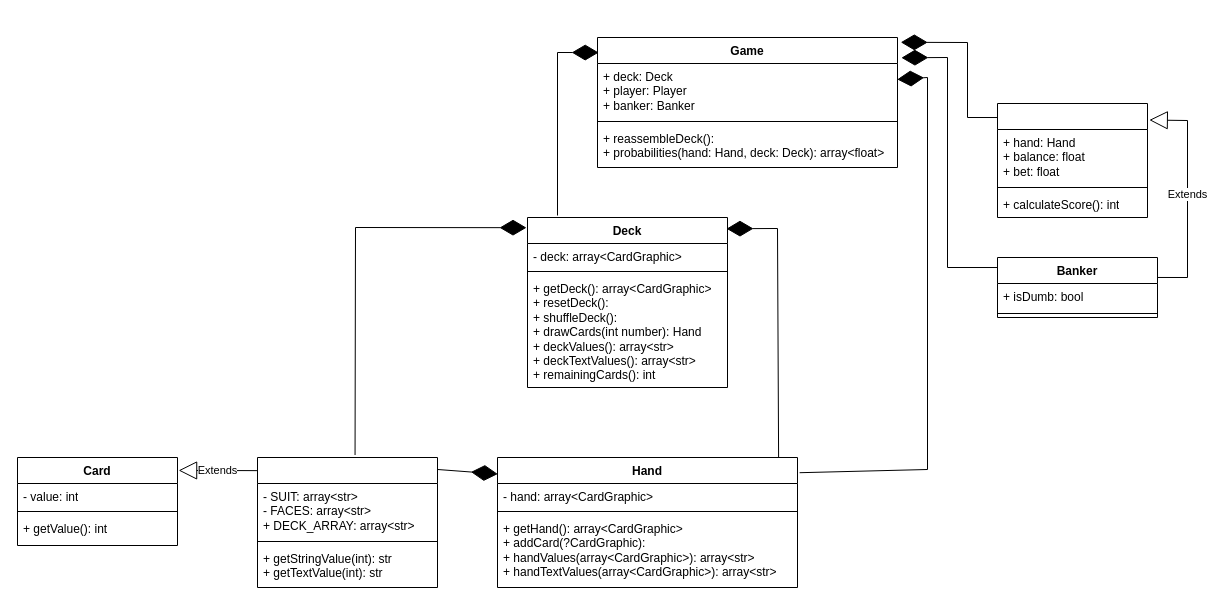
Some shapes in this 1225 by 608 pixel diagram are drawn without their labels. Each missing label, with the box of its shape:
CardGraphic: (256, 456, 438, 588)
Player: (996, 102, 1148, 218)
